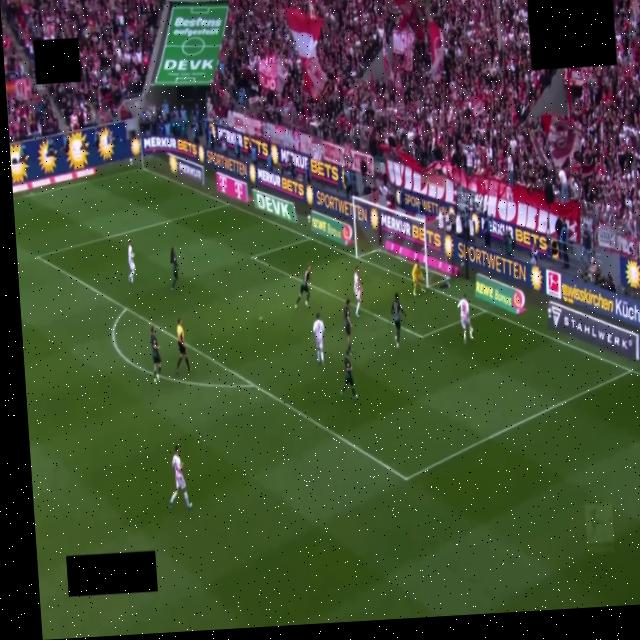ball: (472, 327, 474, 331)
player: (169, 446, 192, 509), (341, 353, 358, 399), (312, 313, 327, 365), (391, 294, 405, 348), (458, 294, 473, 344), (295, 263, 310, 308), (151, 327, 161, 382), (343, 300, 352, 354), (412, 262, 425, 296), (354, 267, 362, 317), (170, 248, 178, 291), (128, 241, 135, 282)
referee: (176, 319, 191, 374)
